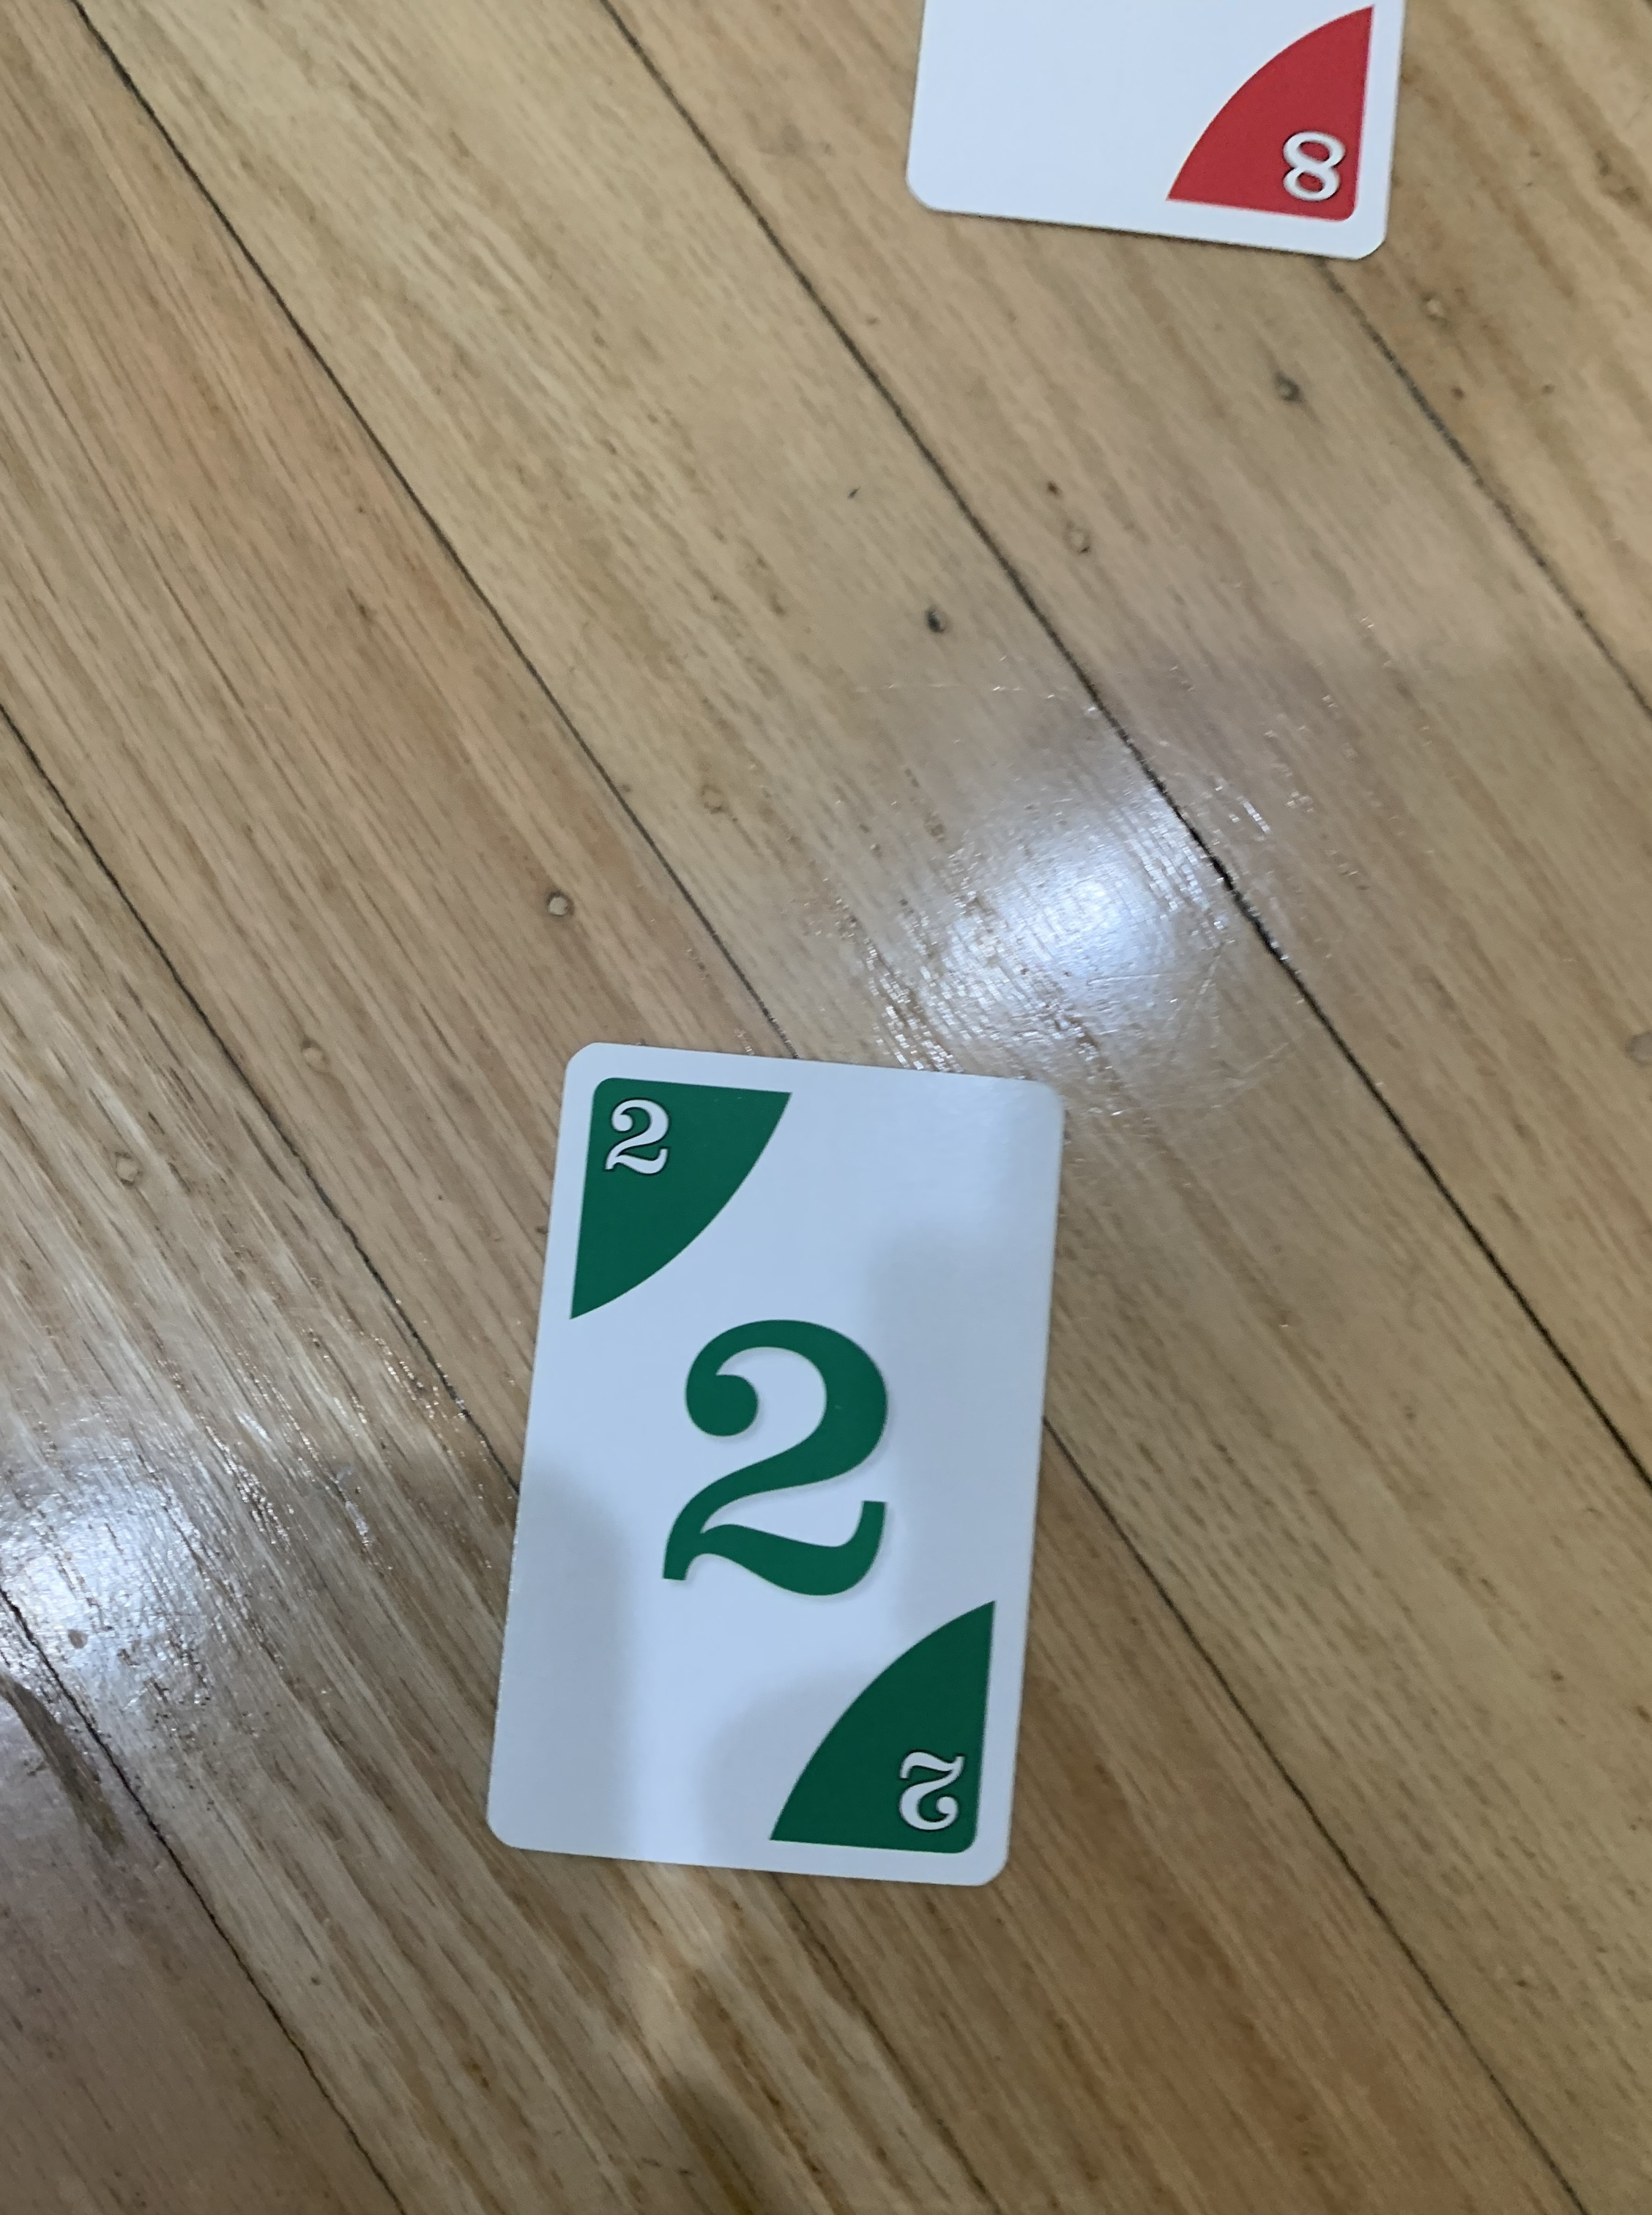two: (481, 1033, 1081, 1901)
